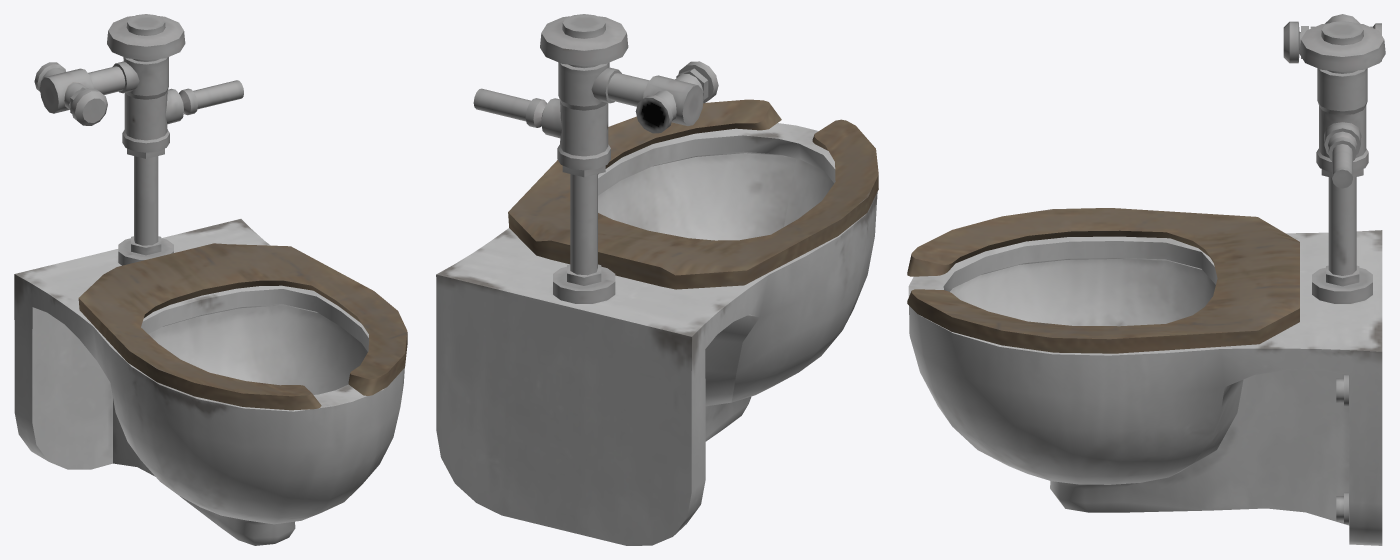
Rendered from SM_Toilet.fbx.
The picture shows the model from 3 angles, left to right: view 1: azimuth 30°, elevation 25°; view 2: azimuth 150°, elevation 25°; view 3: azimuth 270°, elevation 25°; orthographic projection. The views are drawn at different scales.
Visible parts, largest first — view 1: SM_Toilet_LOD0; view 2: SM_Toilet_LOD0; view 3: SM_Toilet_LOD0.
Boxes of the visible parts, x1,y1,x2,y2 form: SM_Toilet_LOD0: [14, 14, 407, 545]; SM_Toilet_LOD0: [436, 14, 878, 545]; SM_Toilet_LOD0: [907, 14, 1385, 545].
Bounding box in the file's own units: 41.82 × 64.36 × 71.31.
